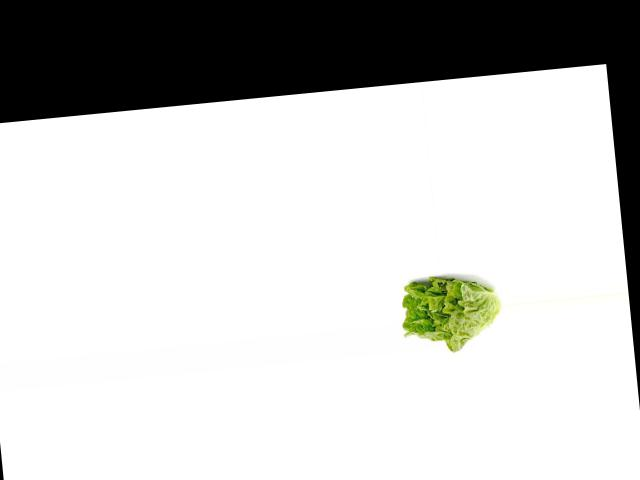lettuce: (398, 265, 504, 355)
